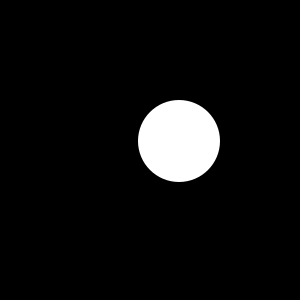rectangle: (138, 100, 220, 182)
